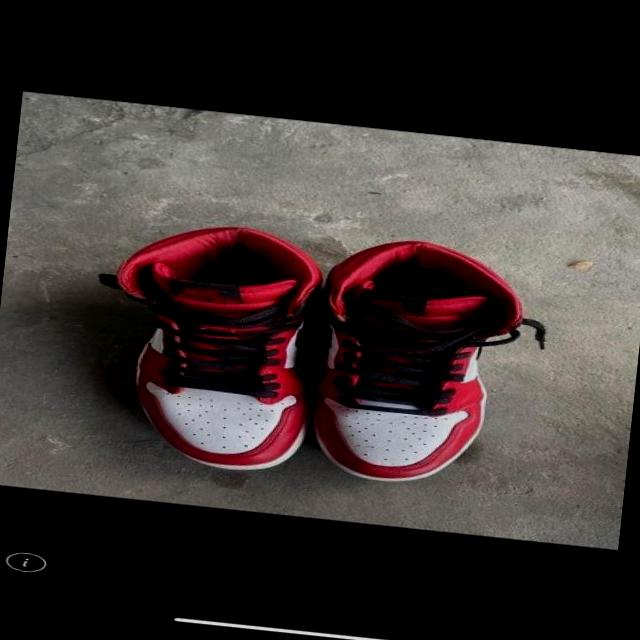nike_fake_jordan: (96, 213, 330, 479), (296, 234, 530, 496)
